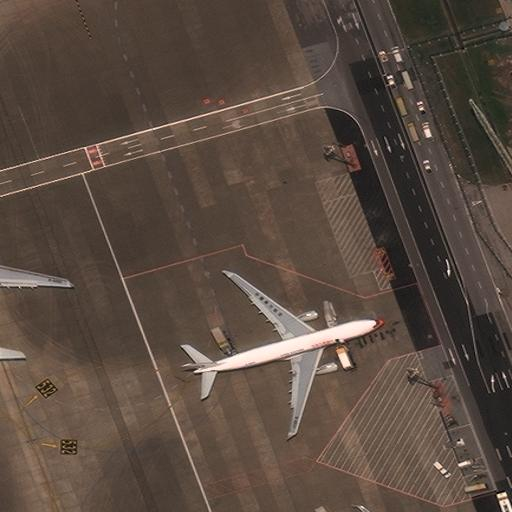Large Civil Transport: (192, 271, 382, 434), (0, 241, 69, 362)
